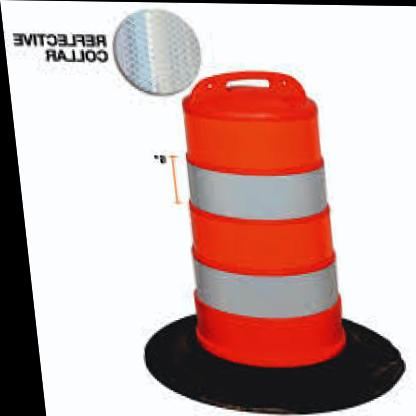obstacle: (164, 68, 355, 366)
